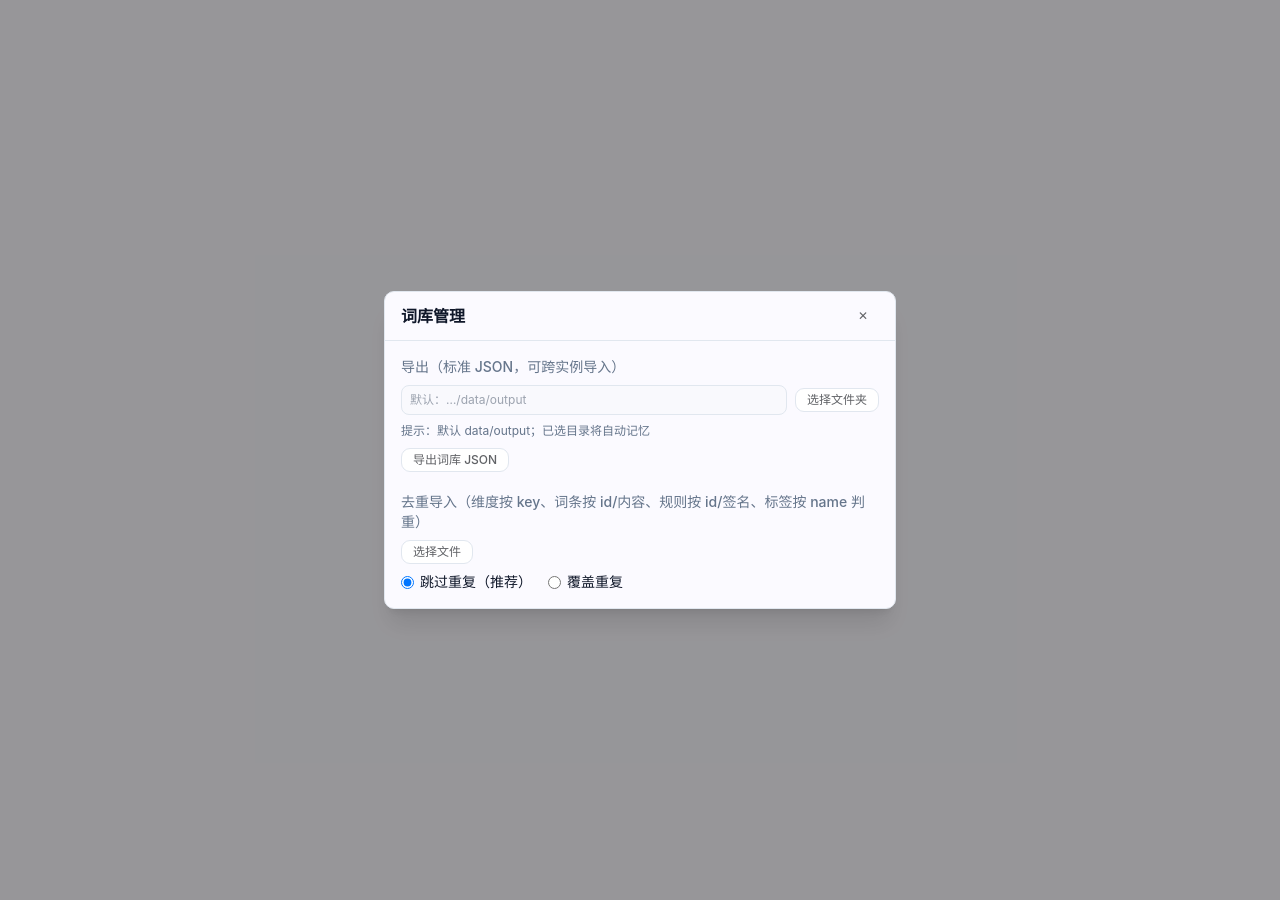
Test: LibraryDialog — Need02 导出落盘与文件夹自选 › 选择文件夹：open 返回 string 时回填并写 localStorage
Step 1. Click the button with test id "library-export-pick-dir" → point(837, 400), box [795,388,879,412]
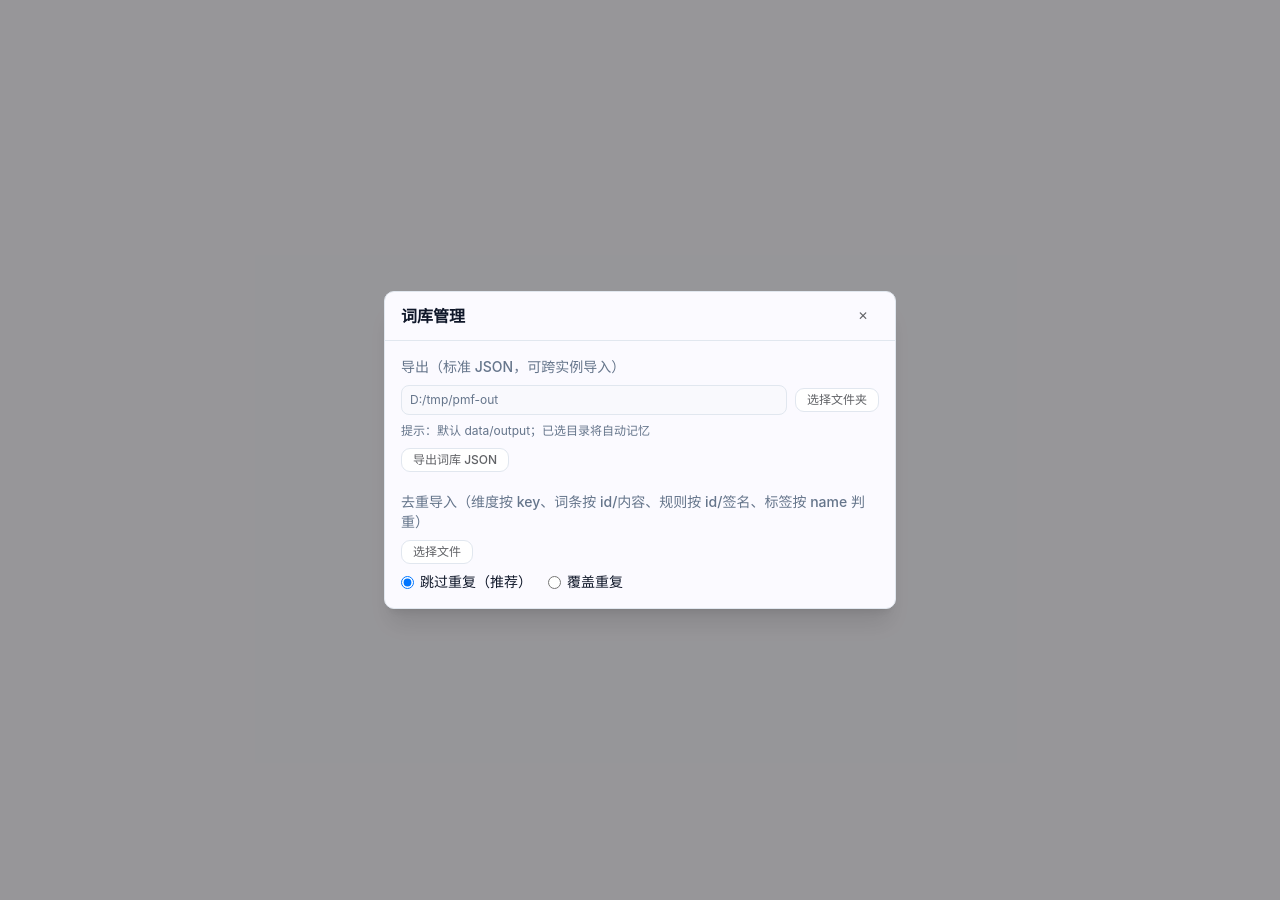
Now the field with test id "library-export-dir" holds "D:/tmp/pmf-out", box [401,385,787,415]
